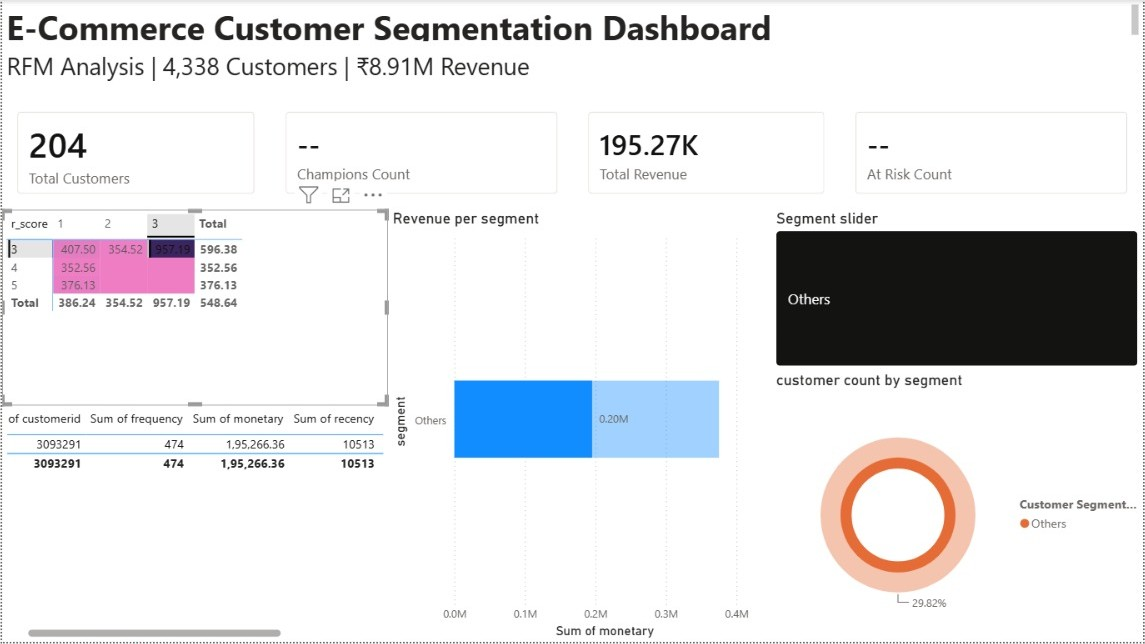

The page's visual inventory and layout, read from the dashboard file:
{"tool":"powerbi","page":{"name":"Page 1","canvas":[1280,720],"ordinal":0},"visuals":[{"type":"cardVisual","fields":{"Data":["Count(powerbi_rfm.customerid)"]},"box":[0,108.2,300.9,126.8],"z":0},{"type":"cardVisual","fields":{"Data":["Sum(powerbi_rfm.monetary)"]},"box":[640.7,108.2,299.2,126.8],"z":1000},{"type":"cardVisual","fields":{"Data":["powerbi_rfm.Champions Count"]},"box":[300.9,108.2,339.8,126.8],"z":2000},{"type":"donutChart","title":"customer count by segment","fields":{"Category":["powerbi_rfm.segment"],"Y":["Count(powerbi_rfm.customerid)"]},"box":[863.9,415.9,415.9,304.3],"z":3000},{"type":"clusteredBarChart","title":"Revenue per segment","fields":{"Category":["powerbi_rfm.segment"],"Y":["Sum(powerbi_rfm.monetary)"]},"box":[432.8,235,431.1,485.2],"z":4000},{"type":"cardVisual","fields":{"Data":["powerbi_rfm.At Risk Count"]},"box":[939.9,108.2,339.8,126.8],"z":5000},{"type":"textbox","box":[0,0,1279.7,50.7],"z":6000},{"type":"textbox","box":[0,50.7,1279.7,57.5],"z":7000},{"type":"pivotTable","fields":{"Rows":["powerbi_rfm.r_score"],"Columns":["powerbi_rfm.f_score"],"Values":["Avg(powerbi_rfm.monetary)"]},"box":[0,235,432.8,219.8],"z":8000},{"type":"tableEx","fields":{"Values":["Sum(powerbi_rfm.customerid)","Sum(powerbi_rfm.frequency)","Sum(powerbi_rfm.monetary)","Sum(powerbi_rfm.recency)","Sum(powerbi_rfm.rfm_score)","powerbi_rfm.segment"]},"box":[0,454.8,432.8,265.4],"z":9000},{"type":"advancedSlicerVisual","title":"Segment slider","fields":{"Values":["powerbi_rfm.segment"]},"box":[863.9,235,415.9,180.9],"z":10000}]}

Visuals, with their boxes in screenshot pixels (x1, y1, x2, y2), scaled from the page's 1280x720 canvas onto the 1145x644 screenshot:
cardVisual - Count(powerbi_rfm.customerid): <region>0, 97, 269, 210</region>
cardVisual - Sum(powerbi_rfm.monetary): <region>573, 97, 841, 210</region>
cardVisual - powerbi_rfm.Champions Count: <region>269, 97, 573, 210</region>
"customer count by segment" donutChart: <region>773, 372, 1144, 643</region>
"Revenue per segment" clusteredBarChart: <region>387, 210, 773, 643</region>
cardVisual - powerbi_rfm.At Risk Count: <region>841, 97, 1144, 210</region>
textbox: <region>0, 0, 1144, 45</region>
textbox: <region>0, 45, 1144, 97</region>
pivotTable - powerbi_rfm.r_score x powerbi_rfm.f_score: <region>0, 210, 387, 407</region>
tableEx - Sum(powerbi_rfm.customerid) x Sum(powerbi_rfm.frequency): <region>0, 407, 387, 643</region>
"Segment slider" advancedSlicerVisual: <region>773, 210, 1144, 372</region>
